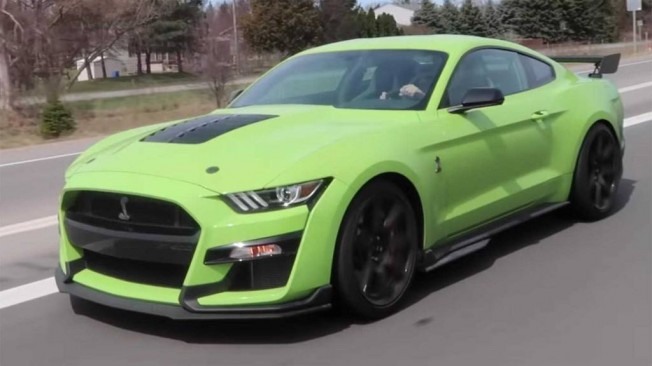car: (54, 33, 627, 323)
